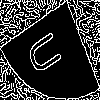U: (25, 24, 69, 78)
